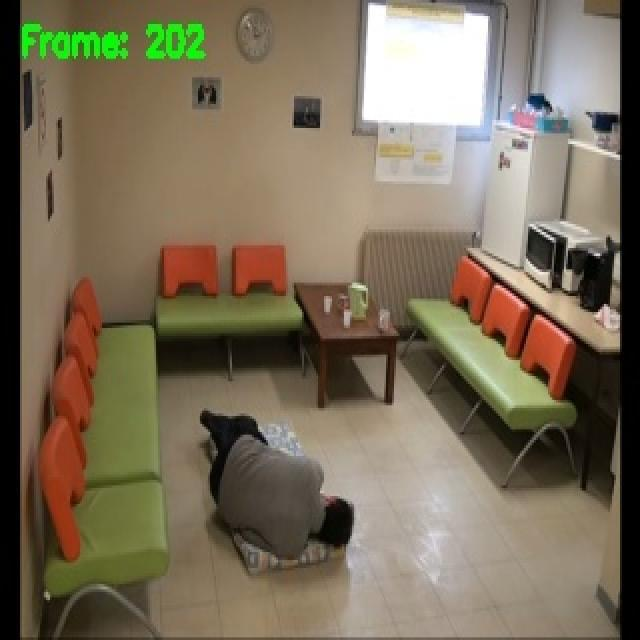fall: (196, 401, 352, 562)
